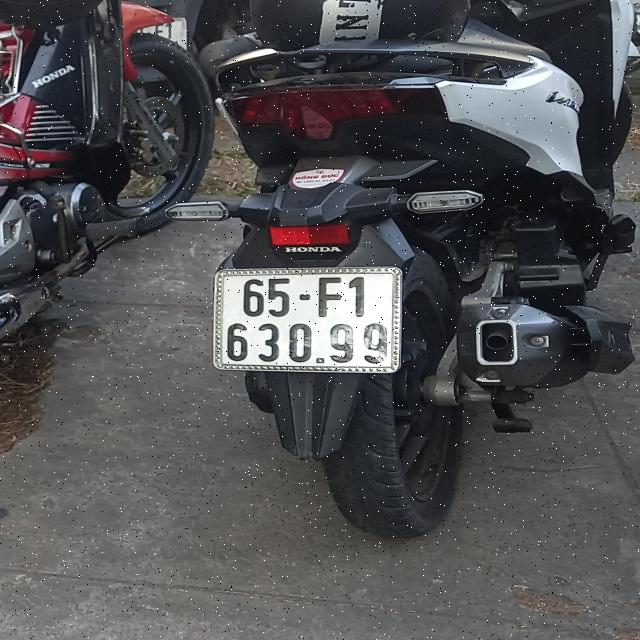0: (288, 323, 315, 364)
1: (345, 275, 367, 316)
3: (254, 322, 280, 362)
5: (266, 276, 292, 317)
6: (242, 277, 267, 318), (224, 322, 249, 363)
9: (328, 322, 356, 363), (362, 322, 388, 364)
F: (318, 276, 344, 318)
